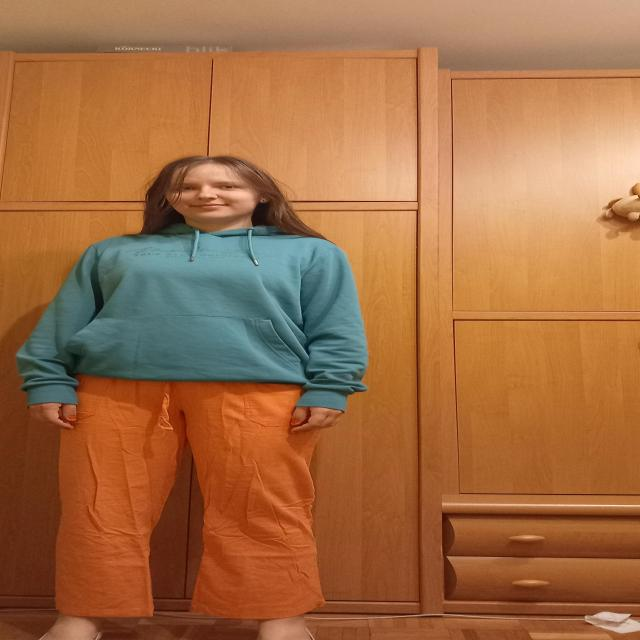pants: (56, 373, 328, 620)
sweater: (14, 222, 370, 412)
